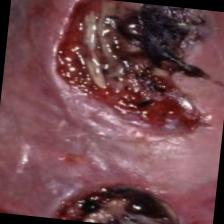wound-ulser: (27, 0, 224, 153), (41, 172, 201, 224)
